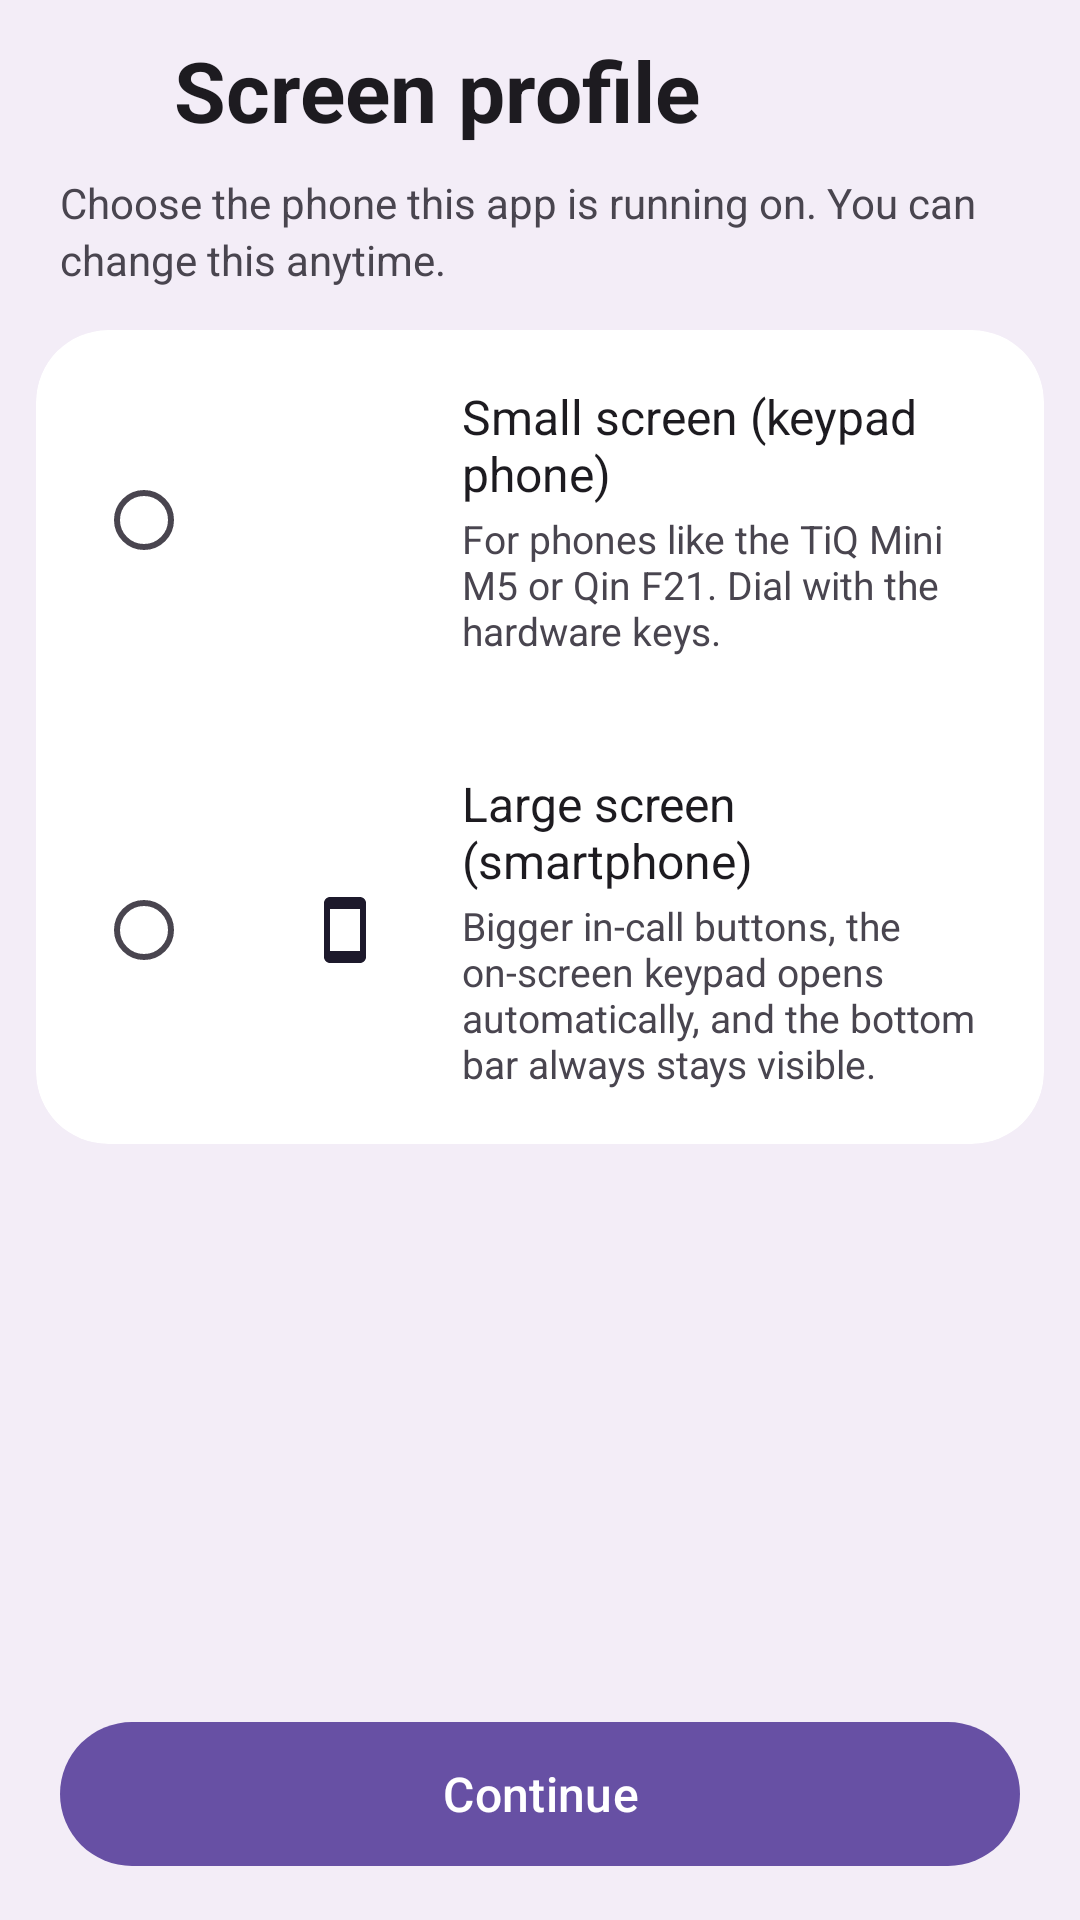

Where to tap for icons on this 1080 x 1920 app screen, as (x,y):
screen size: (345,930)
